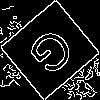G: (25, 25, 84, 86)
